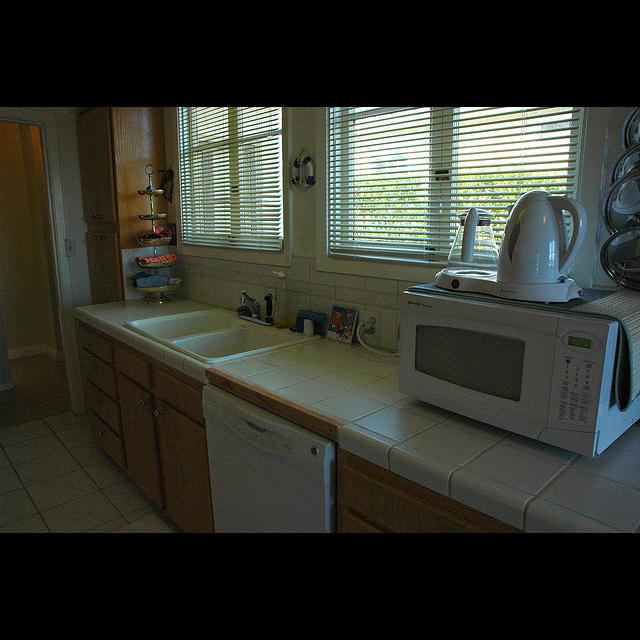Microwave: (398, 289, 640, 458)
Refrigerator: (203, 385, 334, 531)
